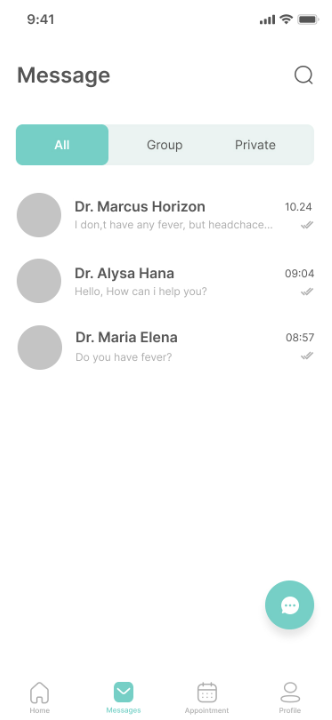AppBar: (1, 27, 332, 91)
BottomBar: (1, 676, 332, 720)
IconButton: (263, 579, 315, 631), (292, 62, 318, 91)
